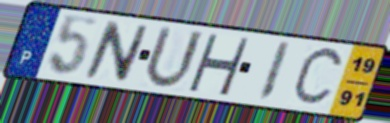5: (47, 15, 100, 79)
C: (288, 44, 347, 109)
H: (185, 32, 252, 98)
I: (255, 40, 294, 104)
N: (81, 19, 152, 85)
U: (140, 23, 206, 92)
